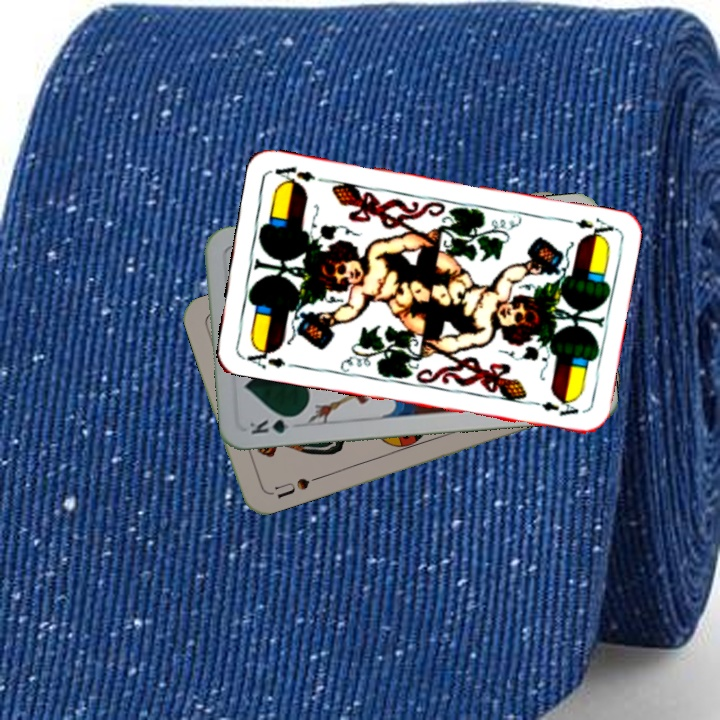EA: (239, 341, 298, 371), (557, 214, 616, 242)
GK: (245, 412, 302, 437)
SU: (271, 474, 312, 501)
